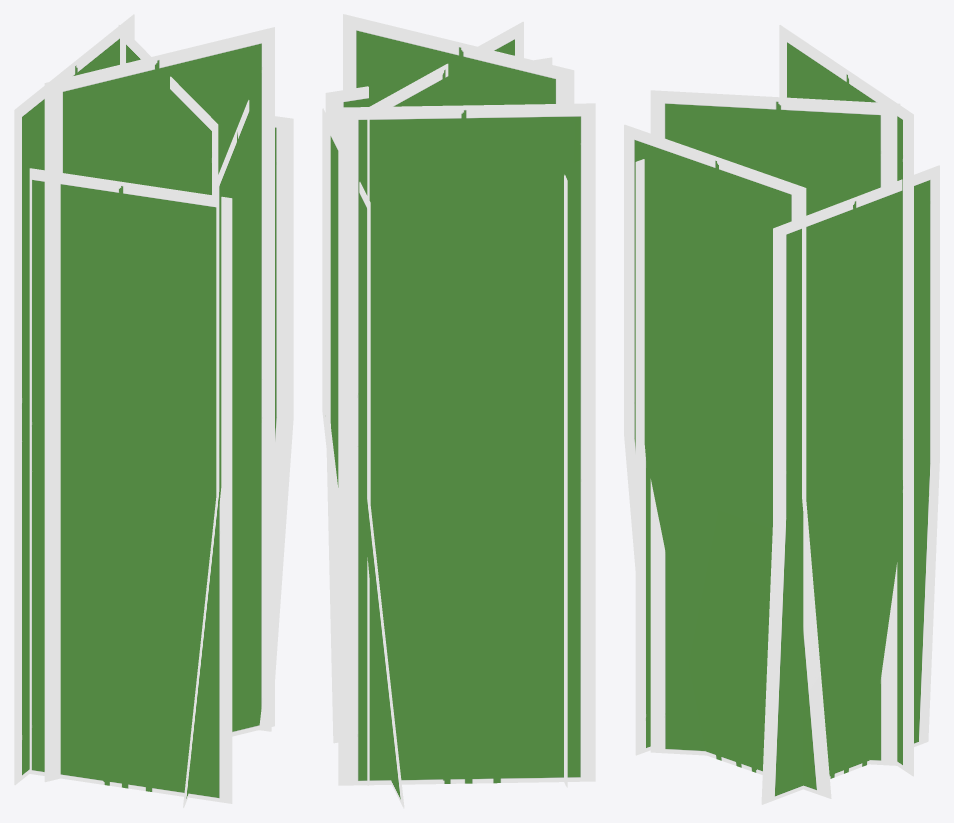
File: Plant_11.glb
The picture shows the model from 3 angles, left to right: view 1: azimuth 30°, elevation 25°; view 2: azimuth 150°, elevation 25°; view 3: azimuth 270°, elevation 25°; orthographic projection. The views are drawn at different scales.
Visible parts, largest first — view 1: Plant_11_LOD0; view 2: Plant_11_LOD0; view 3: Plant_11_LOD0.
Part boxes in pixels (left/top/right/bottom): Plant_11_LOD0: left=14, top=14, right=293, bottom=807; Plant_11_LOD0: left=322, top=14, right=595, bottom=808; Plant_11_LOD0: left=624, top=25, right=939, bottom=804.
Size of what is drawn, in the model's own units: 0.3249 by 0.7866 by 0.3288.
1 material, 1 textured.
